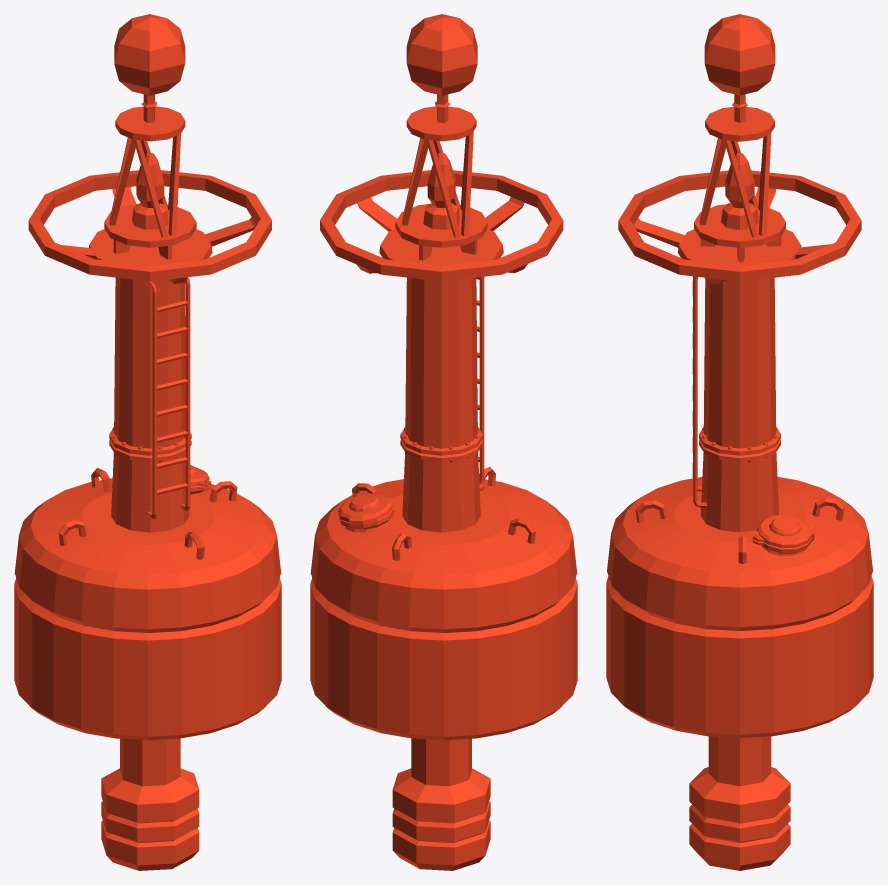
Rendered from SM_Buoy_Safe_Water_City.fbx.
The picture shows the model from 3 angles, left to right: view 1: azimuth 30°, elevation 25°; view 2: azimuth 150°, elevation 25°; view 3: azimuth 270°, elevation 25°; orthographic projection.
Visible parts, largest first — view 1: SM_Buoy_Safe_Water_City; view 2: SM_Buoy_Safe_Water_City; view 3: SM_Buoy_Safe_Water_City.
Part boxes in pixels (bbox=[...]): SM_Buoy_Safe_Water_City: bbox=[14, 14, 281, 870]; SM_Buoy_Safe_Water_City: bbox=[310, 14, 577, 870]; SM_Buoy_Safe_Water_City: bbox=[606, 14, 873, 870].
Size of the model in its own units: 3 by 10.34 by 3.
